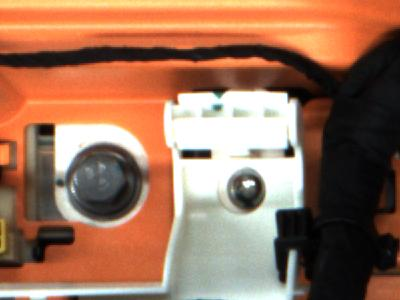nut_b: (61, 132, 144, 228)
